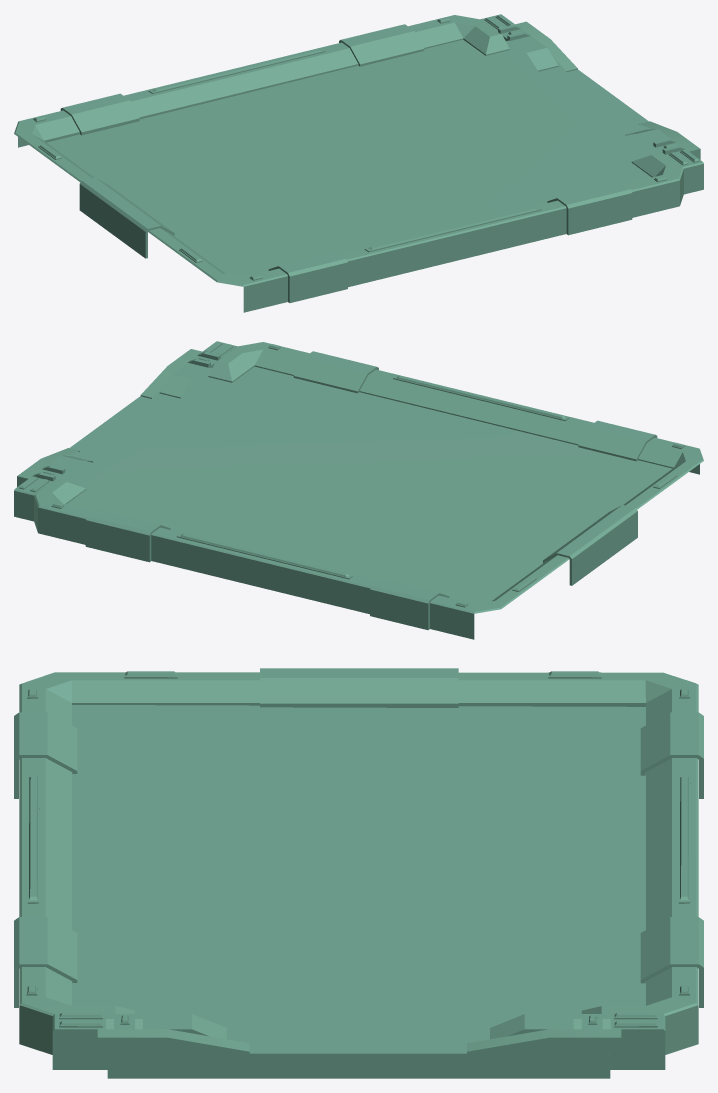
File: TrashPlatformBIG.fbx
The picture shows the model from 3 angles, top to bottom: view 1: azimuth 30°, elevation 25°; view 2: azimuth 150°, elevation 25°; view 3: azimuth 270°, elevation 25°; orthographic projection. The views are drawn at different scales.
Visible parts, largest first — view 1: polySurface250; view 2: polySurface250; view 3: polySurface250.
Part boxes in pixels (bbox=[...]): polySurface250: bbox=[14, 14, 703, 312]; polySurface250: bbox=[14, 341, 703, 639]; polySurface250: bbox=[14, 668, 703, 1078].
Bounding box in the file's own units: 3132 × 184 × 2480.
